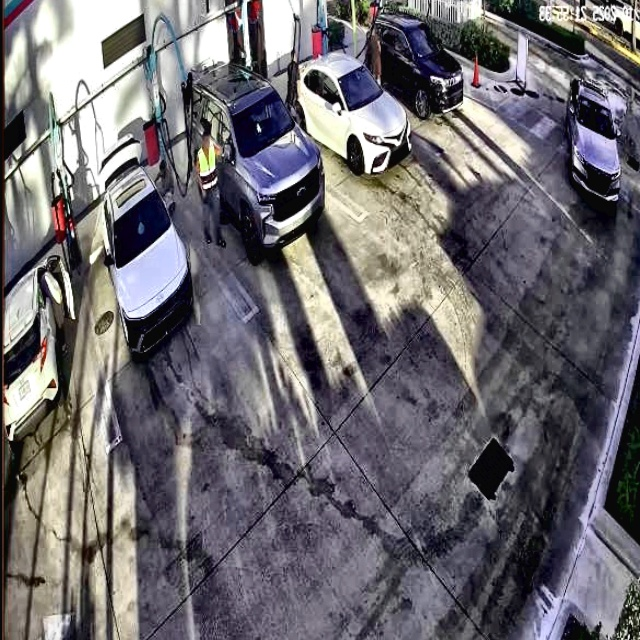Car: (185, 63, 328, 256), (99, 138, 192, 353), (287, 54, 411, 176)
